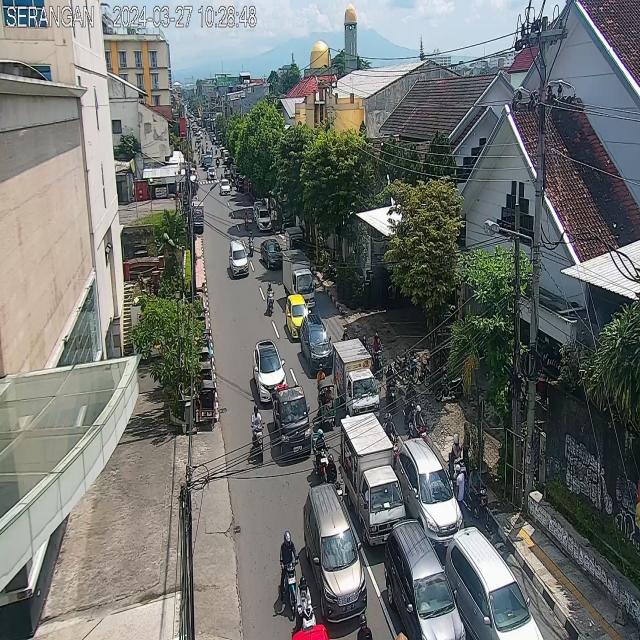car: (446, 522, 545, 640), (385, 517, 465, 640), (303, 486, 368, 622), (396, 438, 464, 554), (253, 340, 287, 404), (300, 316, 334, 374), (286, 294, 310, 340), (229, 240, 249, 276), (260, 239, 284, 269), (258, 207, 272, 231), (253, 201, 264, 222), (220, 178, 230, 196), (207, 167, 217, 180), (204, 159, 212, 170)
motorcycle: (276, 529, 298, 618), (464, 465, 492, 532), (294, 574, 316, 633), (449, 432, 466, 494), (326, 451, 345, 506), (382, 412, 400, 470), (312, 427, 330, 482), (251, 404, 264, 464), (409, 405, 428, 445), (404, 382, 418, 431), (372, 332, 384, 378), (360, 334, 374, 373), (386, 364, 397, 412), (266, 280, 275, 317), (340, 327, 352, 347), (248, 230, 254, 256), (244, 210, 249, 230), (228, 176, 233, 192), (224, 165, 228, 181), (216, 158, 220, 168), (198, 154, 201, 164), (220, 173, 223, 182)
truck: (339, 418, 406, 544), (333, 340, 380, 422), (271, 384, 312, 458), (282, 249, 316, 310), (286, 228, 306, 260)
